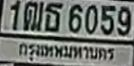0: (84, 4, 97, 33)
1: (10, 0, 20, 28)
5: (100, 4, 115, 34)
6: (68, 3, 82, 32)
9: (116, 6, 131, 37)
A18: (22, 1, 43, 30)
A24: (44, 2, 62, 31)
BKK: (14, 40, 115, 63)
